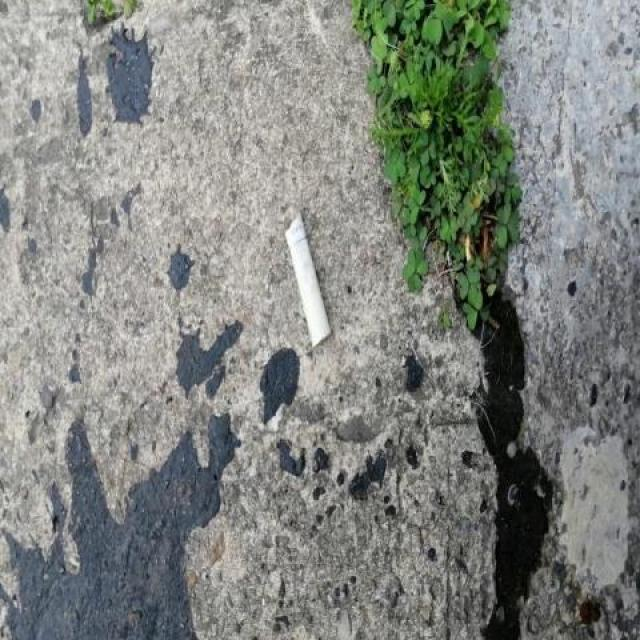non-organic waste: (280, 206, 340, 351)
